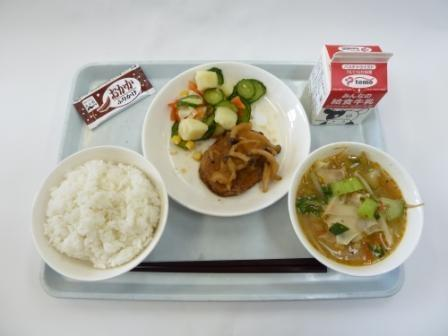Meat: (197, 122, 286, 202)
Milk: (304, 34, 407, 134)
Rice: (32, 146, 168, 284)
Salad: (165, 72, 259, 137)
Soups: (297, 153, 414, 259)
